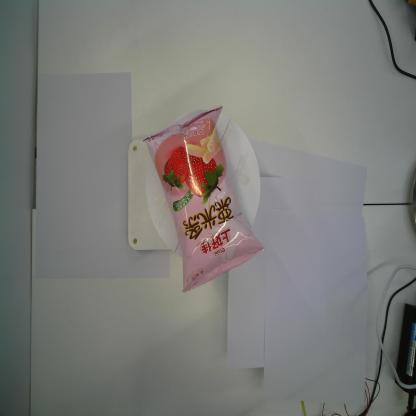Puffed Food: (142, 105, 265, 294)
